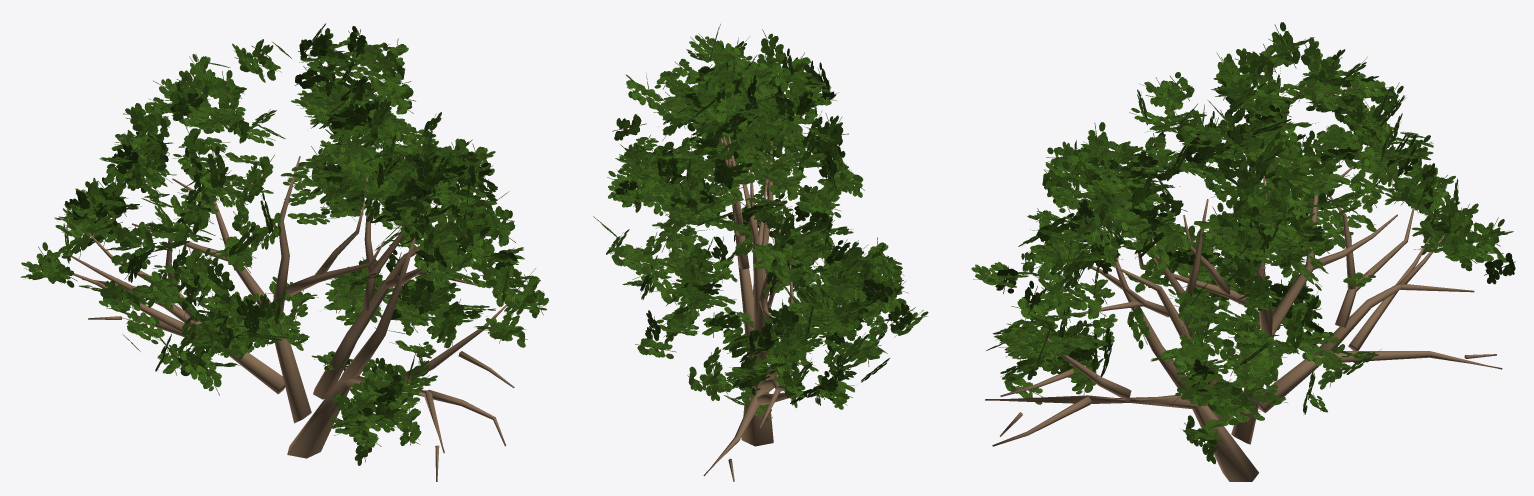
Rendered from near.glb.
3 views of the same model, side by side, from view 1: azimuth 30°, elevation 25°; view 2: azimuth 150°, elevation 25°; view 3: azimuth 270°, elevation 25° (orthographic). The views are drawn at different scales.
Parts seen in each view (by area): view 1: foliage, bark; view 2: foliage, bark; view 3: foliage, bark.
Part boxes in pixels (bbox=[...]): foliage: bbox=[20, 23, 548, 465]; bark: bbox=[68, 156, 514, 481]; foliage: bbox=[593, 24, 928, 422]; bark: bbox=[703, 136, 841, 481]; foliage: bbox=[971, 22, 1515, 464]; bark: bbox=[985, 160, 1502, 481].
Bounding box in the file's own units: 22.76 × 24.86 × 27.73.
Materials: 2 (1 with a texture image).
